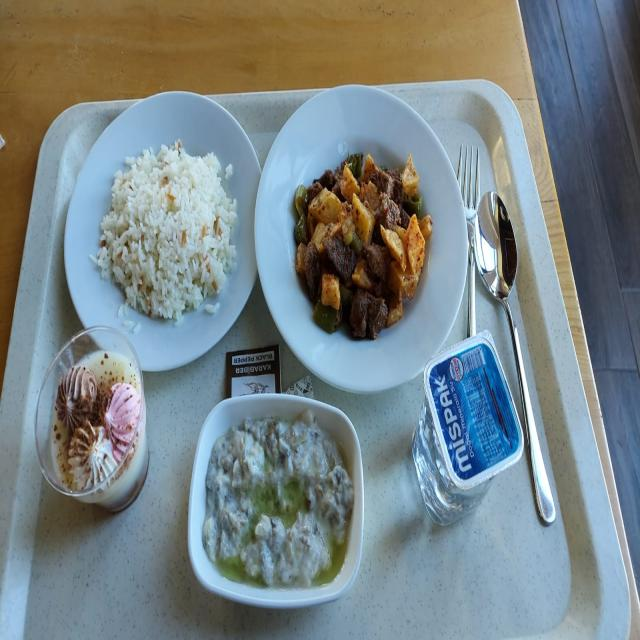ana_yemek: (258, 83, 454, 393), (66, 93, 262, 370)
yan_yemek: (188, 393, 353, 610)
